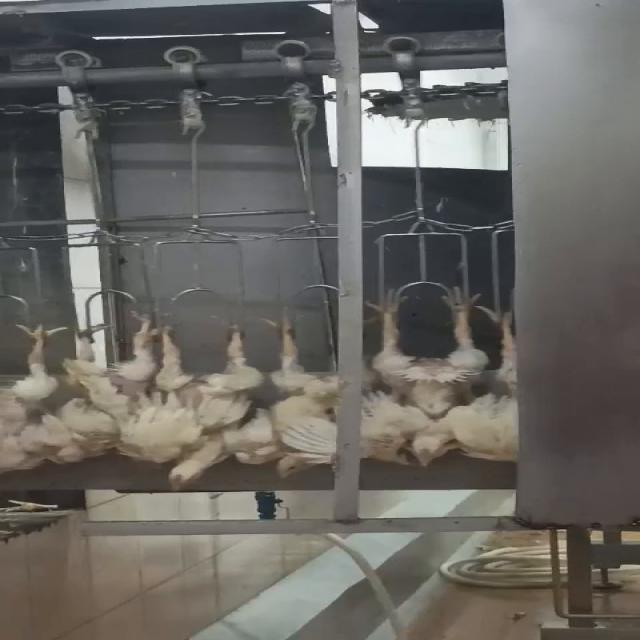chicken: (154, 309, 268, 496), (365, 285, 482, 467), (405, 297, 519, 468), (266, 302, 354, 479), (66, 308, 160, 465), (0, 321, 69, 477)
